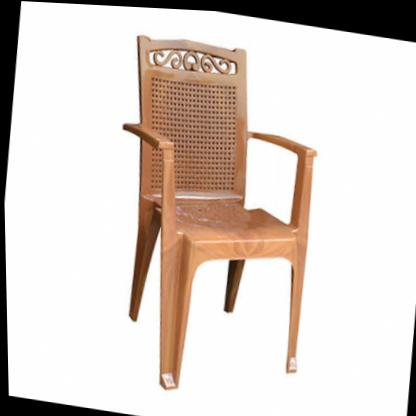Chair: (94, 26, 329, 410)
